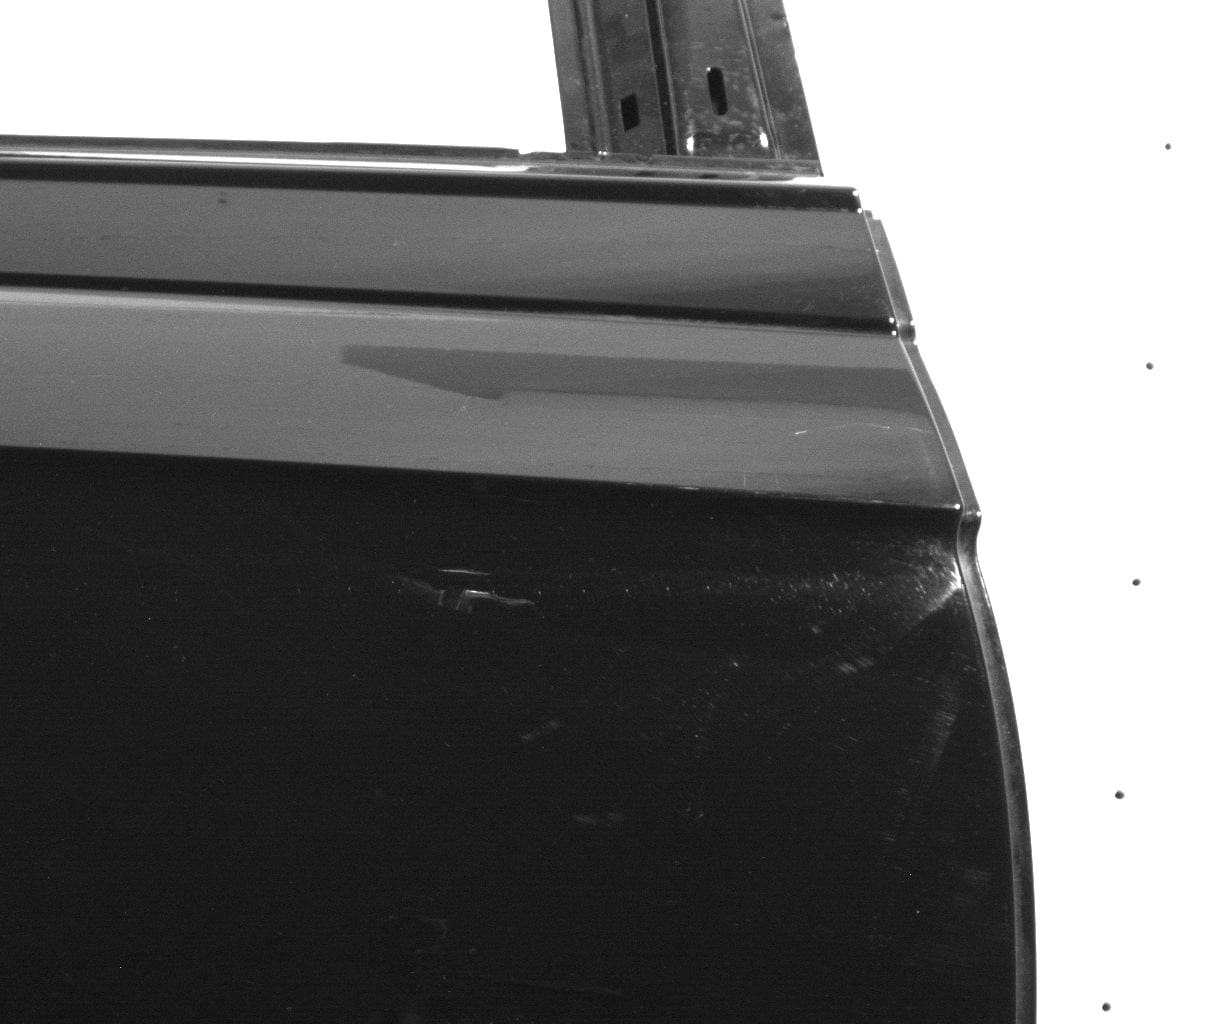scratch: (794, 422, 891, 437), (439, 567, 491, 576), (466, 585, 495, 596), (678, 486, 701, 490)
